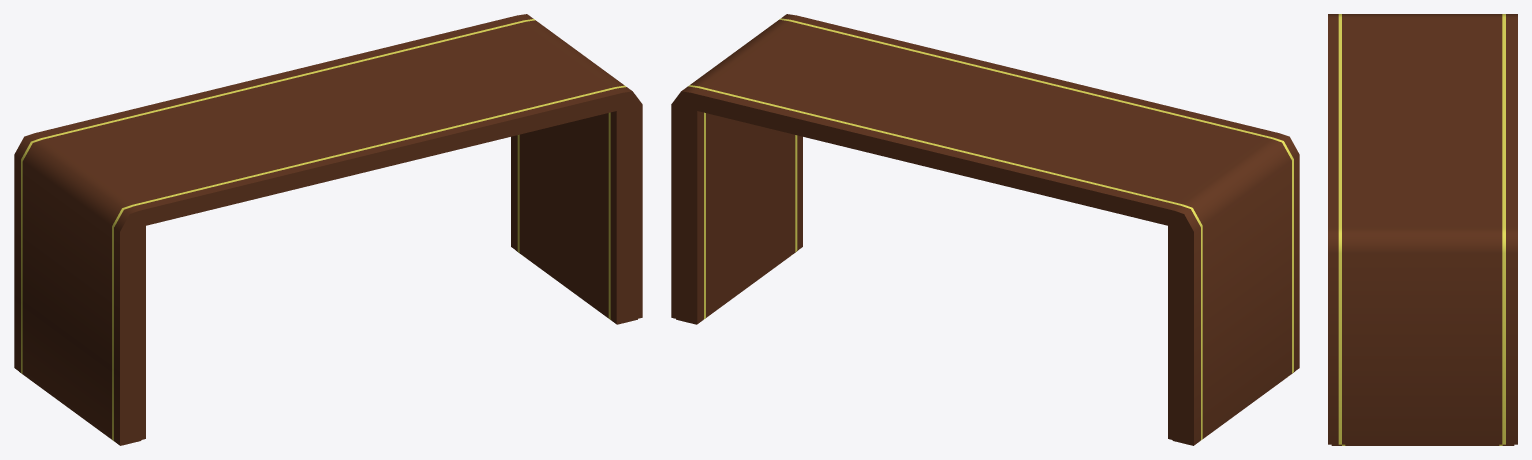
The model's file is newOfficeDesk3.fbx.
The picture shows the model from 3 angles, left to right: view 1: azimuth 30°, elevation 25°; view 2: azimuth 150°, elevation 25°; view 3: azimuth 270°, elevation 25°; orthographic projection. The views are drawn at different scales.
Visible parts, largest first — view 1: Cube; view 2: Cube; view 3: Cube.
Boxes of the visible parts, bbox=[...] form: Cube: bbox=[14, 14, 642, 445]; Cube: bbox=[671, 14, 1299, 445]; Cube: bbox=[1328, 14, 1517, 445].
Size of the model in its own units: 200 by 85 by 70.
